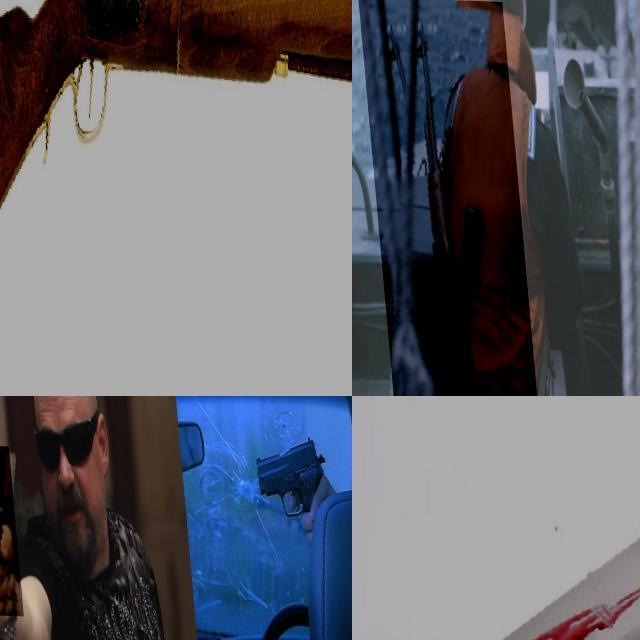-: (352, 396, 640, 640)
gun-knife-thesis - v11 Yolov5 augmented: (0, 0, 352, 396), (355, 0, 533, 396), (248, 426, 337, 560), (0, 443, 42, 615)
